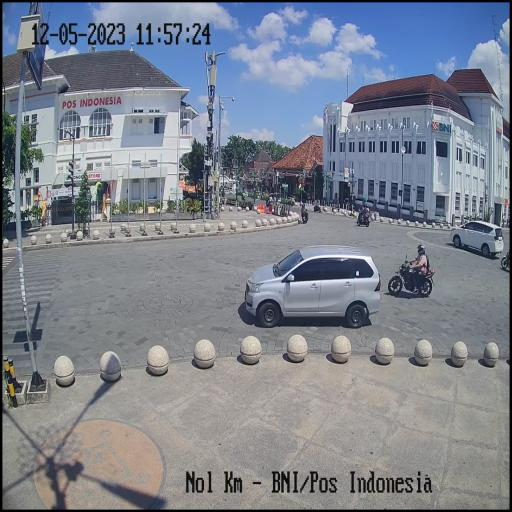mobil: (245, 244, 381, 329), (450, 218, 504, 260)
motor: (388, 254, 435, 298)
